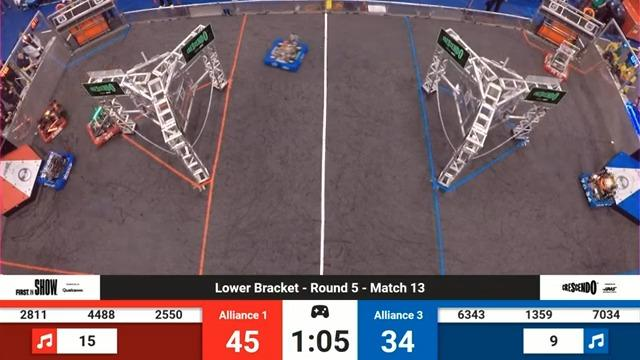robot: (576, 163, 623, 214), (86, 103, 126, 150), (266, 32, 309, 74), (37, 150, 74, 191), (29, 104, 69, 141), (544, 38, 578, 78)
